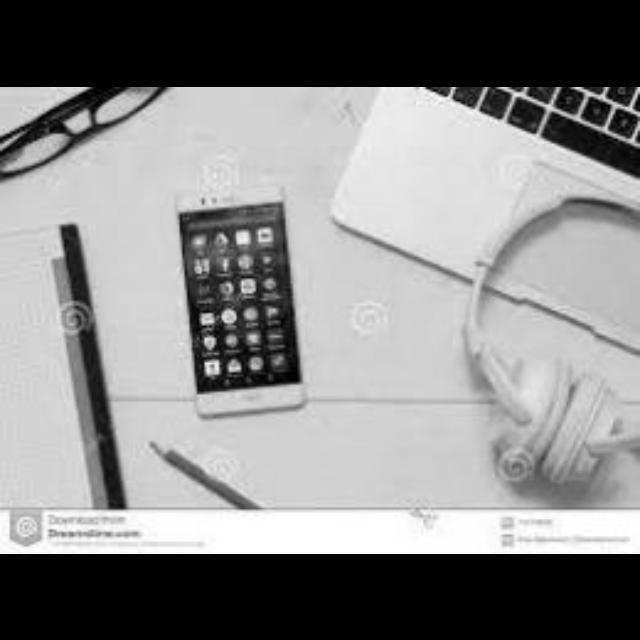fake: (166, 176, 312, 434)
